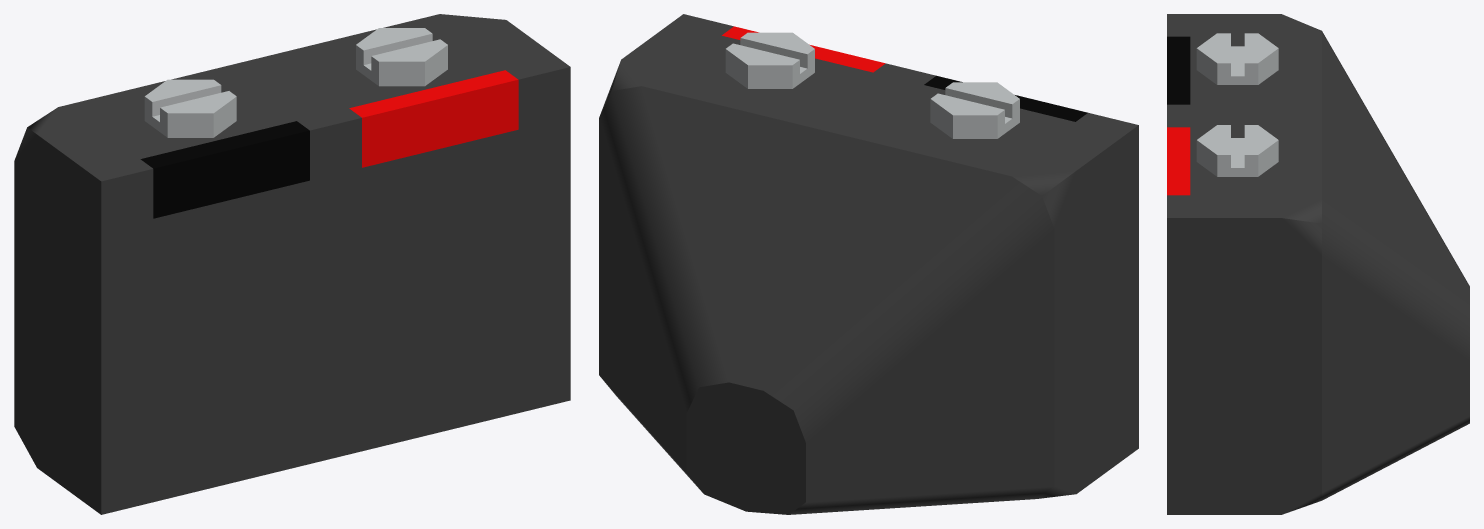
File: TerminalBlockSinglePhase.fbx
3 views of the same model, side by side, from view 1: azimuth 30°, elevation 25°; view 2: azimuth 150°, elevation 25°; view 3: azimuth 270°, elevation 25° (orthographic). The views are drawn at different scales.
Parts seen in each view (by area): view 1: TerminalBlock.001, Screw.001; view 2: TerminalBlock.001, Screw.001; view 3: TerminalBlock.001, Screw.001.
Part boxes in pixels (left/top/right/bottom): TerminalBlock.001: left=14, top=14, right=570, bottom=514; Screw.001: left=144, top=28, right=447, bottom=137; TerminalBlock.001: left=599, top=14, right=1138, bottom=514; Screw.001: left=725, top=32, right=1019, bottom=138; TerminalBlock.001: left=1167, top=14, right=1469, bottom=514; Screw.001: left=1196, top=33, right=1278, bottom=176.
Bounding box in the file's own units: 20 × 14.58 × 12.54.
